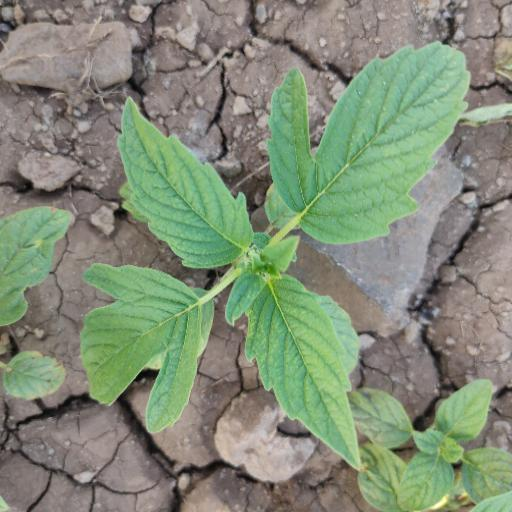crop: (72, 19, 477, 498)
